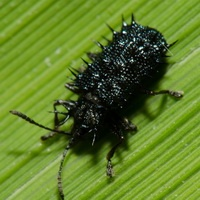insect: (10, 14, 183, 199)
